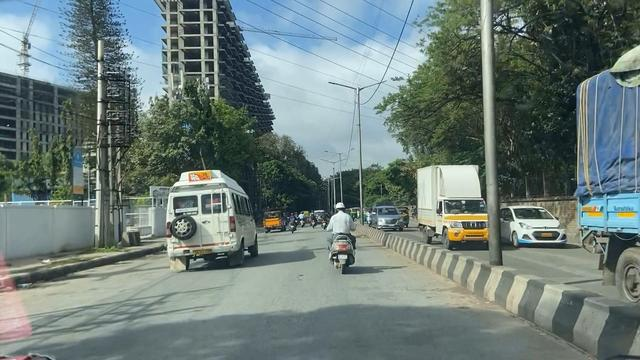HMV: (162, 173, 257, 274)
LMV: (321, 202, 360, 271)
